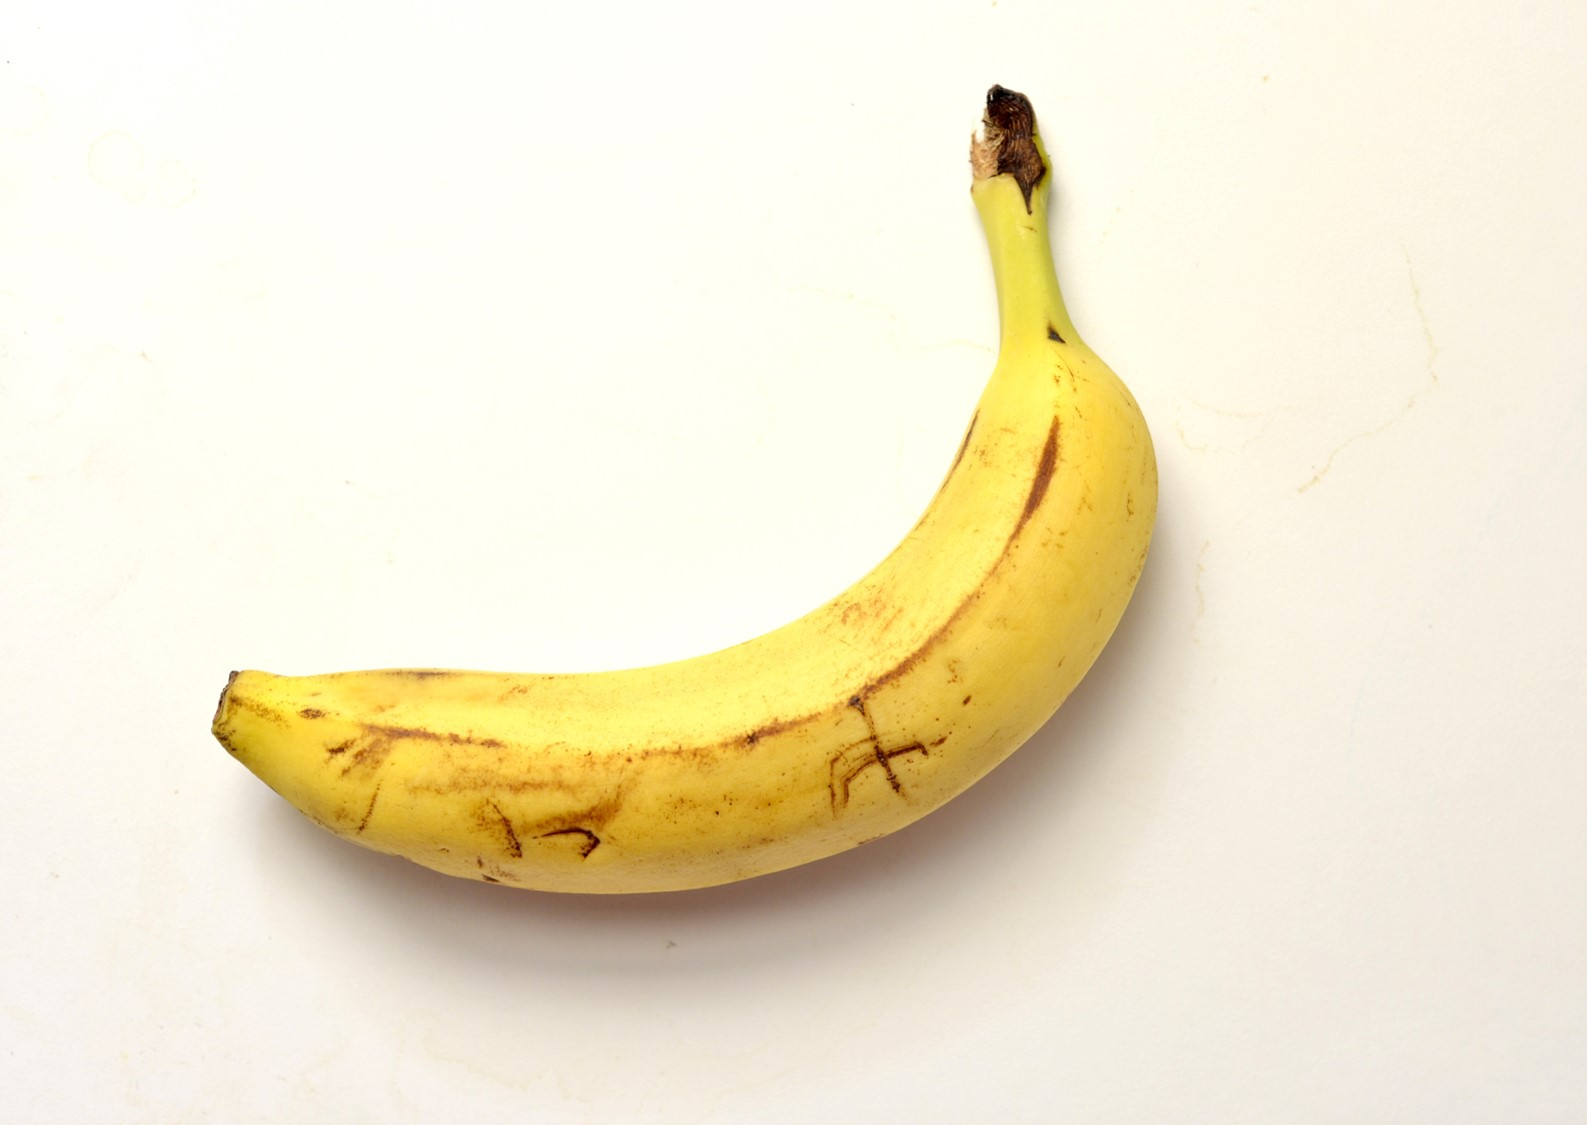banana: (162, 79, 1320, 1008)
